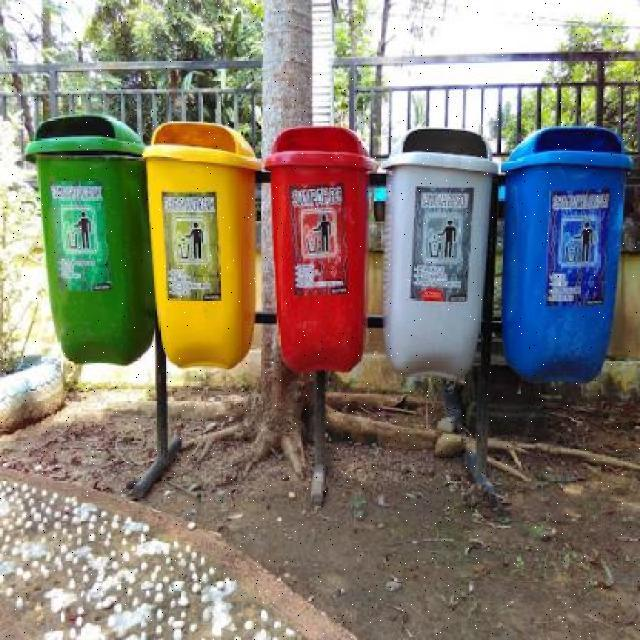garbage container: (499, 103, 639, 405), (376, 112, 501, 405), (22, 106, 153, 374), (264, 120, 387, 394), (149, 108, 266, 387)
